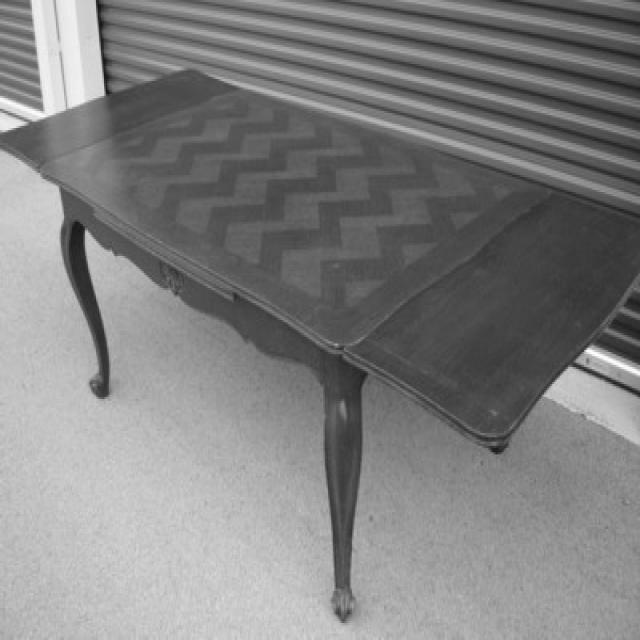table: (3, 66, 639, 620)
